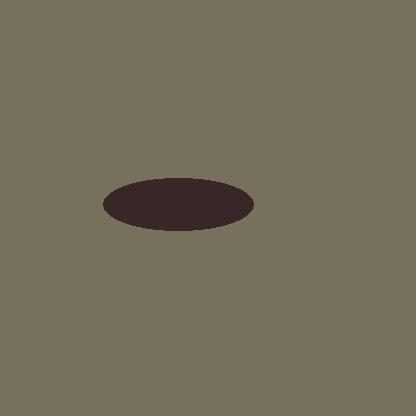pothole: (103, 178, 253, 230)
